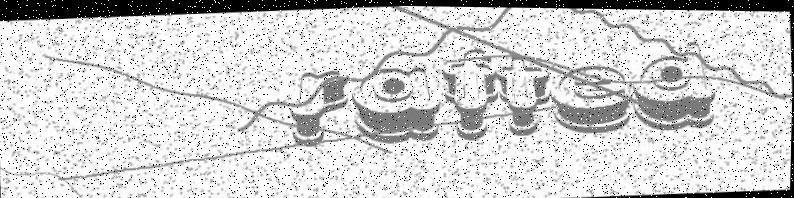a: (349, 62, 444, 146)
d: (628, 36, 719, 131)
e: (548, 59, 634, 134)
f: (439, 44, 503, 141)
r: (287, 67, 351, 148)
t: (494, 51, 553, 137)
